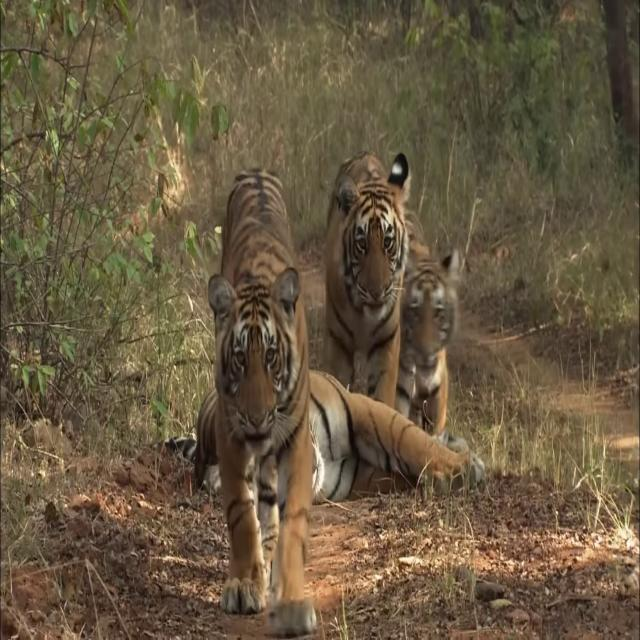tiger: (206, 165, 316, 640), (324, 151, 411, 410), (394, 209, 460, 436)
